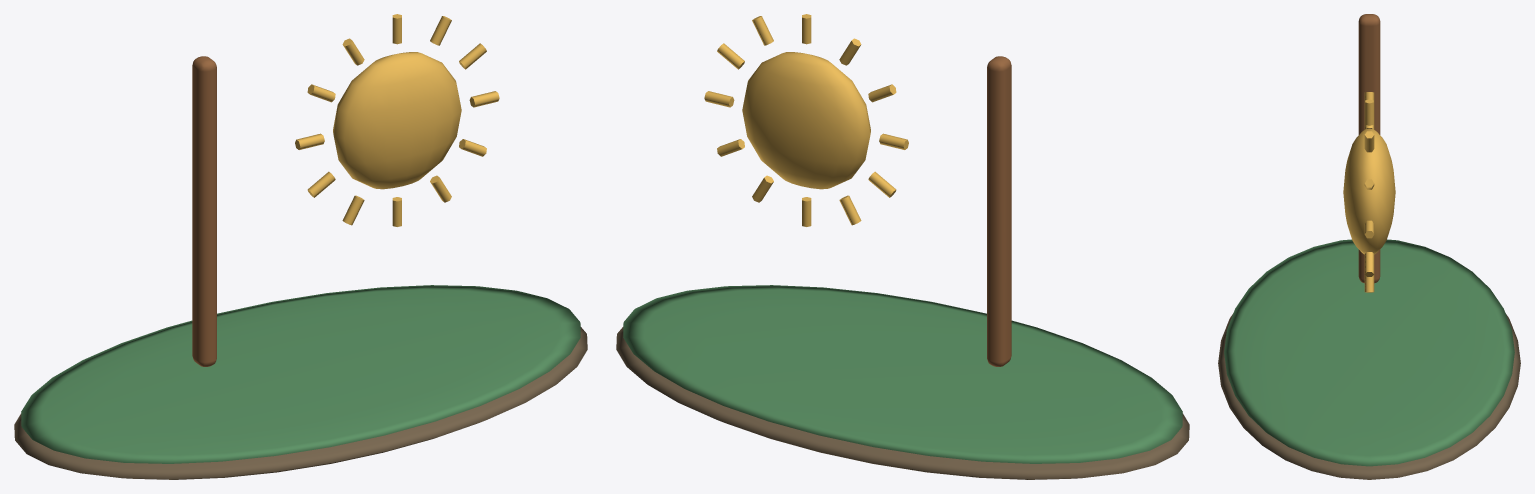
Rendered from old-sun-pole.glb.
3 views of the same model, side by side, from view 1: azimuth 30°, elevation 25°; view 2: azimuth 150°, elevation 25°; view 3: azimuth 270°, elevation 25° (orthographic). The views are drawn at different scales.
Visible parts, largest first — view 1: old-sun-pole_surface_01, old-sun-pole_surface_03, old-sun-pole_surface_00, old-sun-pole_surface_02; view 2: old-sun-pole_surface_01, old-sun-pole_surface_03, old-sun-pole_surface_00, old-sun-pole_surface_02; view 3: old-sun-pole_surface_01, old-sun-pole_surface_03, old-sun-pole_surface_00, old-sun-pole_surface_02.
Boxes of the visible parts, x1,y1,x2,y2 form: old-sun-pole_surface_01: (21, 285, 580, 463); old-sun-pole_surface_03: (295, 14, 499, 226); old-sun-pole_surface_00: (14, 327, 587, 479); old-sun-pole_surface_02: (192, 56, 216, 366); old-sun-pole_surface_01: (623, 285, 1182, 463); old-sun-pole_surface_03: (704, 14, 908, 226); old-sun-pole_surface_00: (616, 327, 1189, 479); old-sun-pole_surface_02: (987, 56, 1011, 366); old-sun-pole_surface_01: (1224, 239, 1514, 466); old-sun-pole_surface_03: (1343, 92, 1395, 292); old-sun-pole_surface_00: (1218, 313, 1520, 479); old-sun-pole_surface_02: (1358, 14, 1380, 283).
Bounding box in the file's own units: 4.56 × 2.93 × 2.5.
